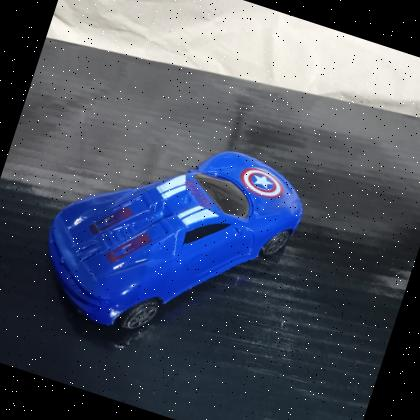Car: (16, 96, 322, 382)
